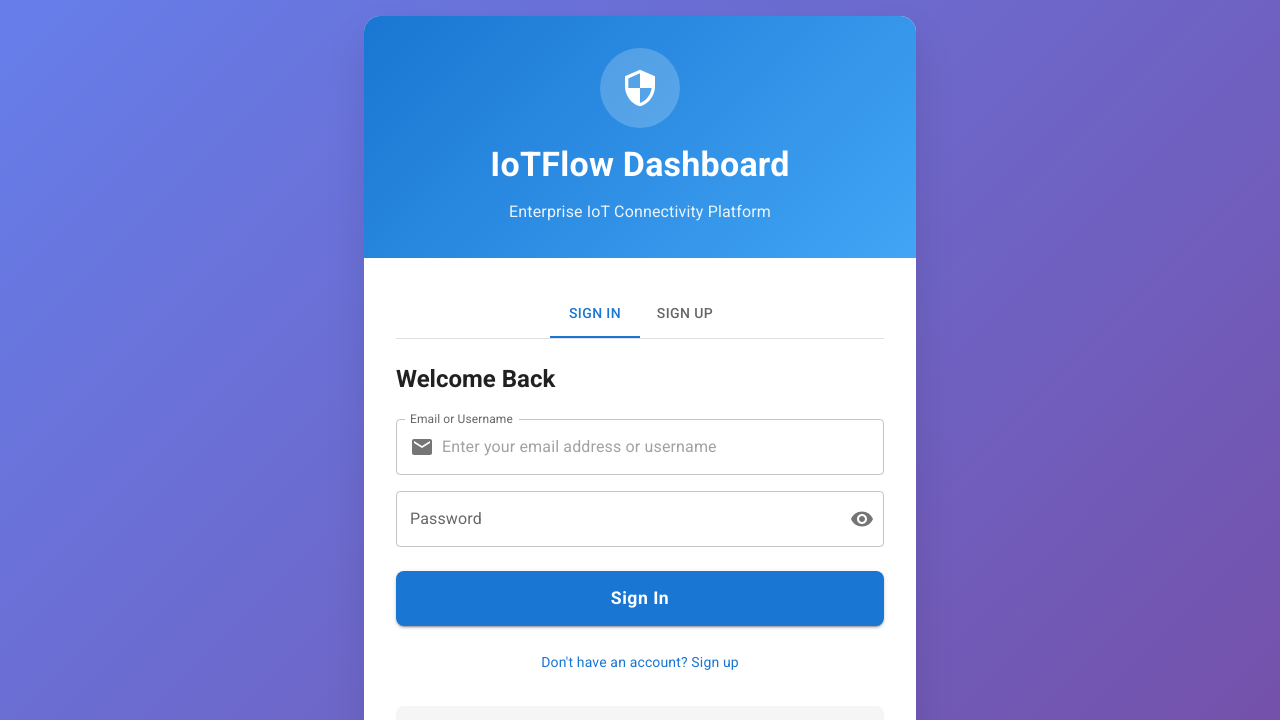
Test: Login Component Error Handling - TDD › Invalid Credentials Error Handling › should display error message for network errors
Step 1. Type "user@example.com" into the field labelled "Email or Username" → (663, 447), box [442, 419, 884, 475]
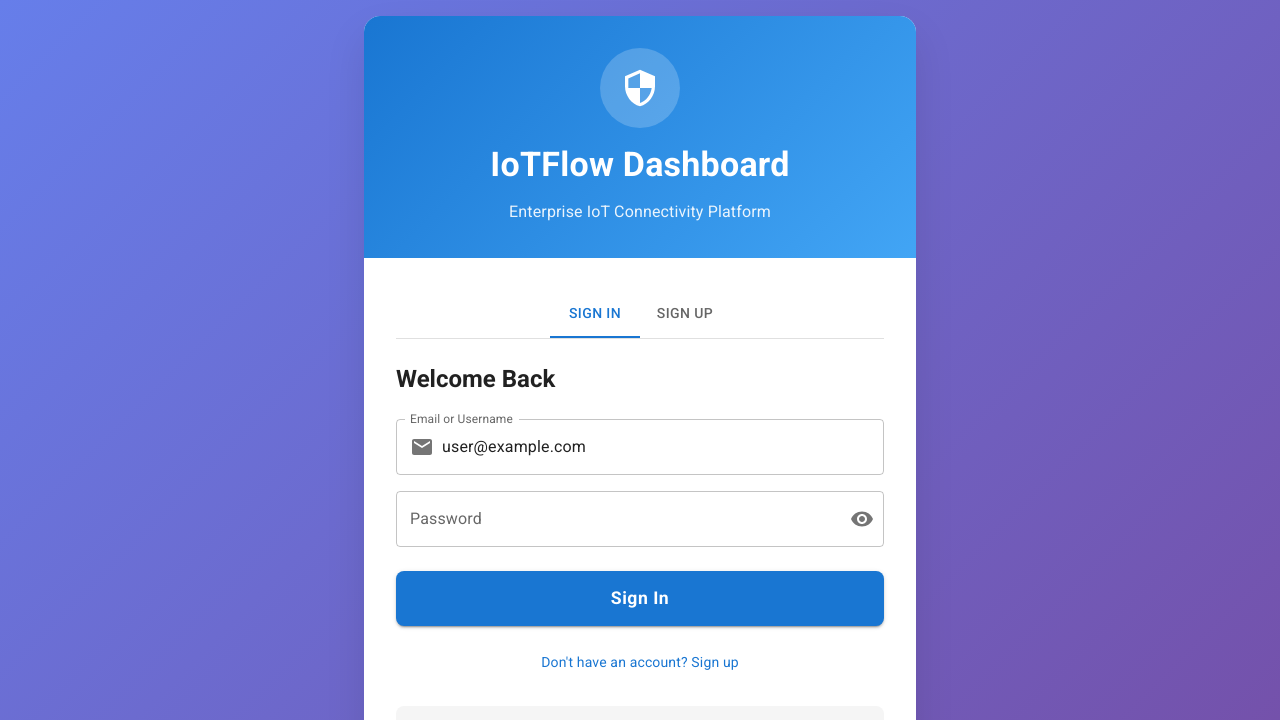
Step 2. Type "password123" into the password field with placeholder "Enter your password" → (615, 519), box [396, 491, 834, 547]
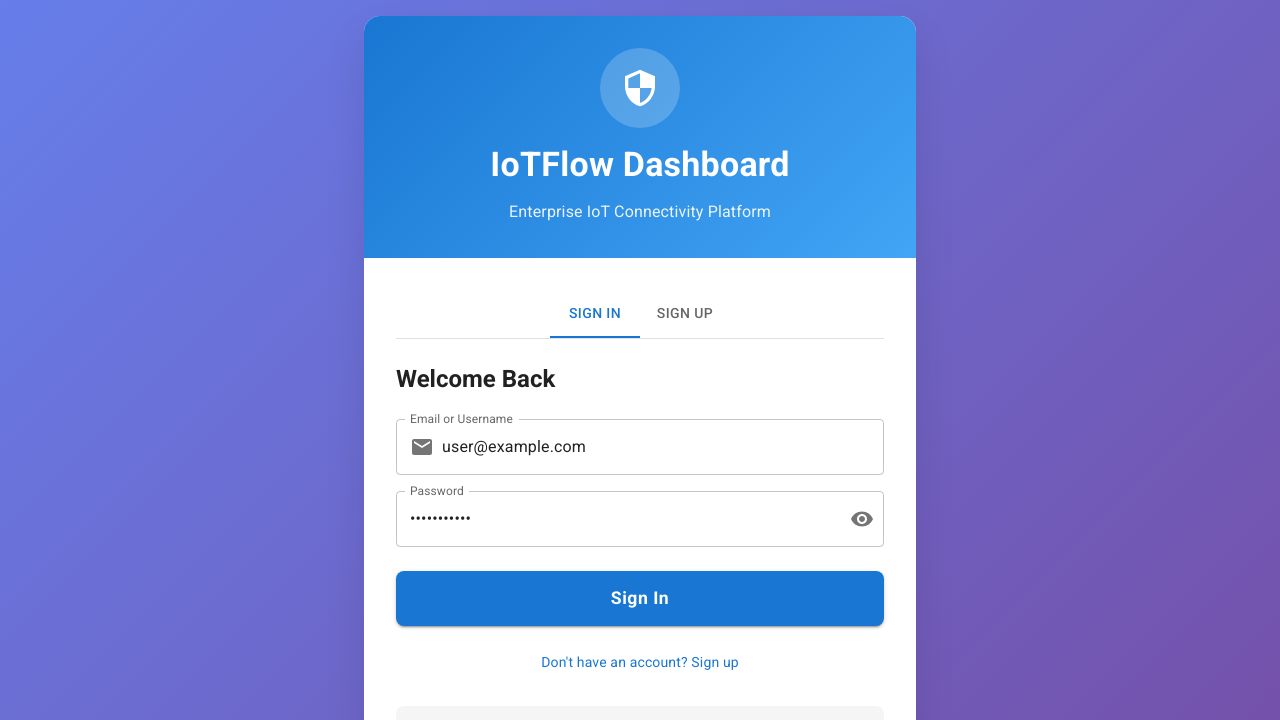
# Submit the form
Step 3. Click the button "Sign In" → (640, 598), box [396, 571, 884, 626]
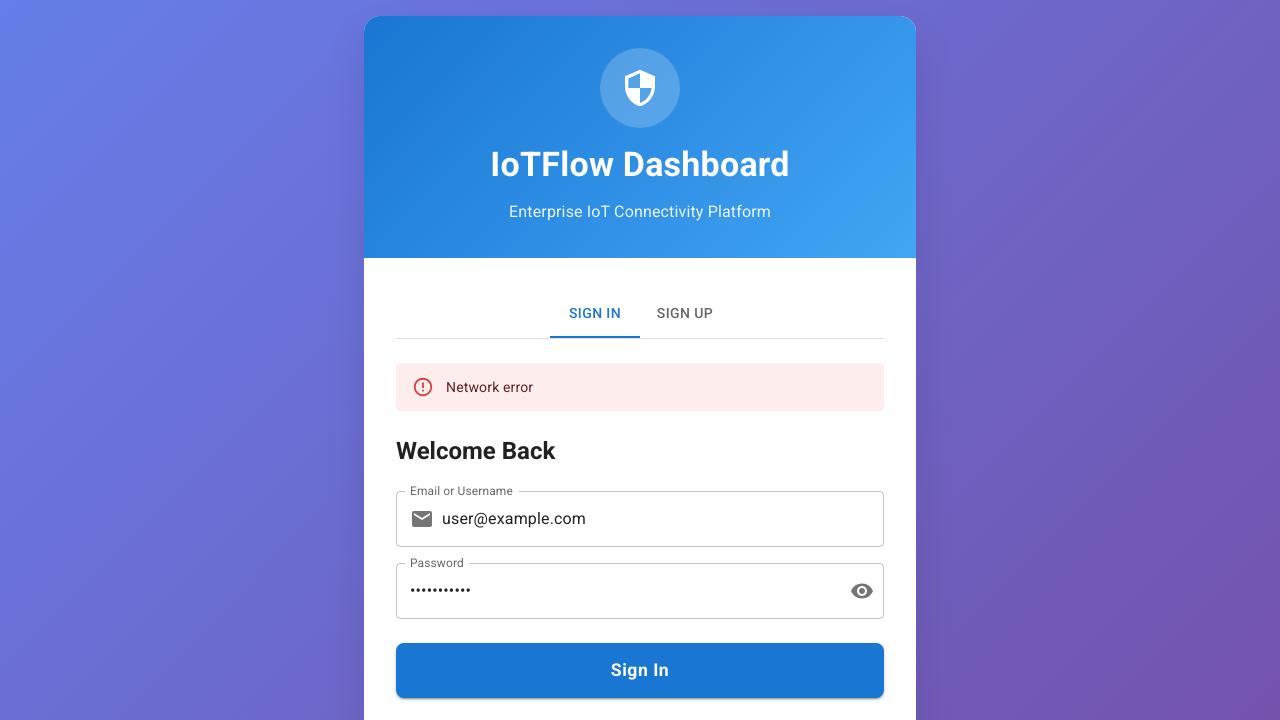
Expected: the message "Network error" is shown, [396, 363, 884, 411]
Expected: the message reads "Network error", [446, 379, 533, 395]
